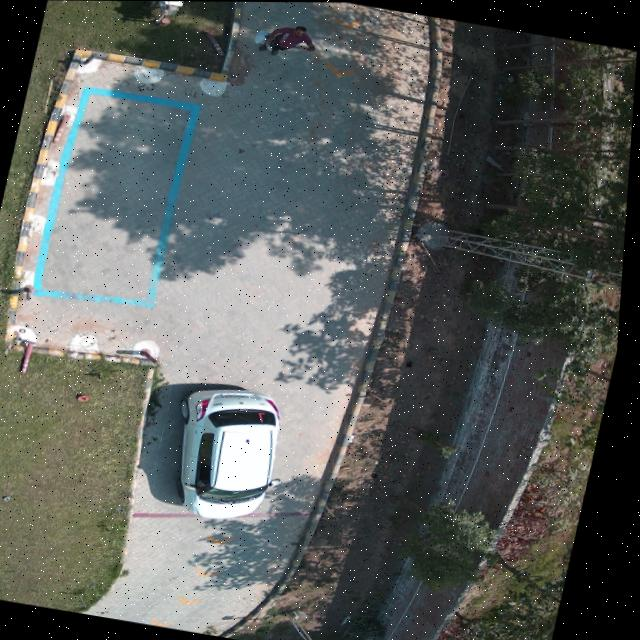car: (184, 387, 286, 519)
